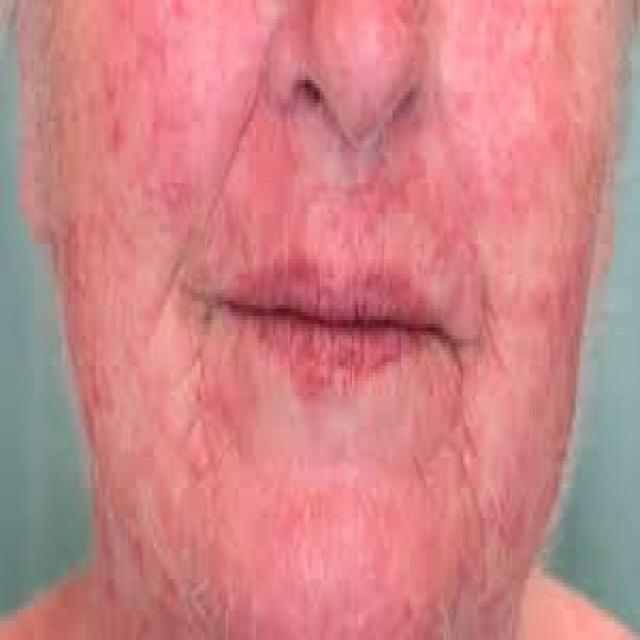Eczema: (84, 133, 549, 481)
